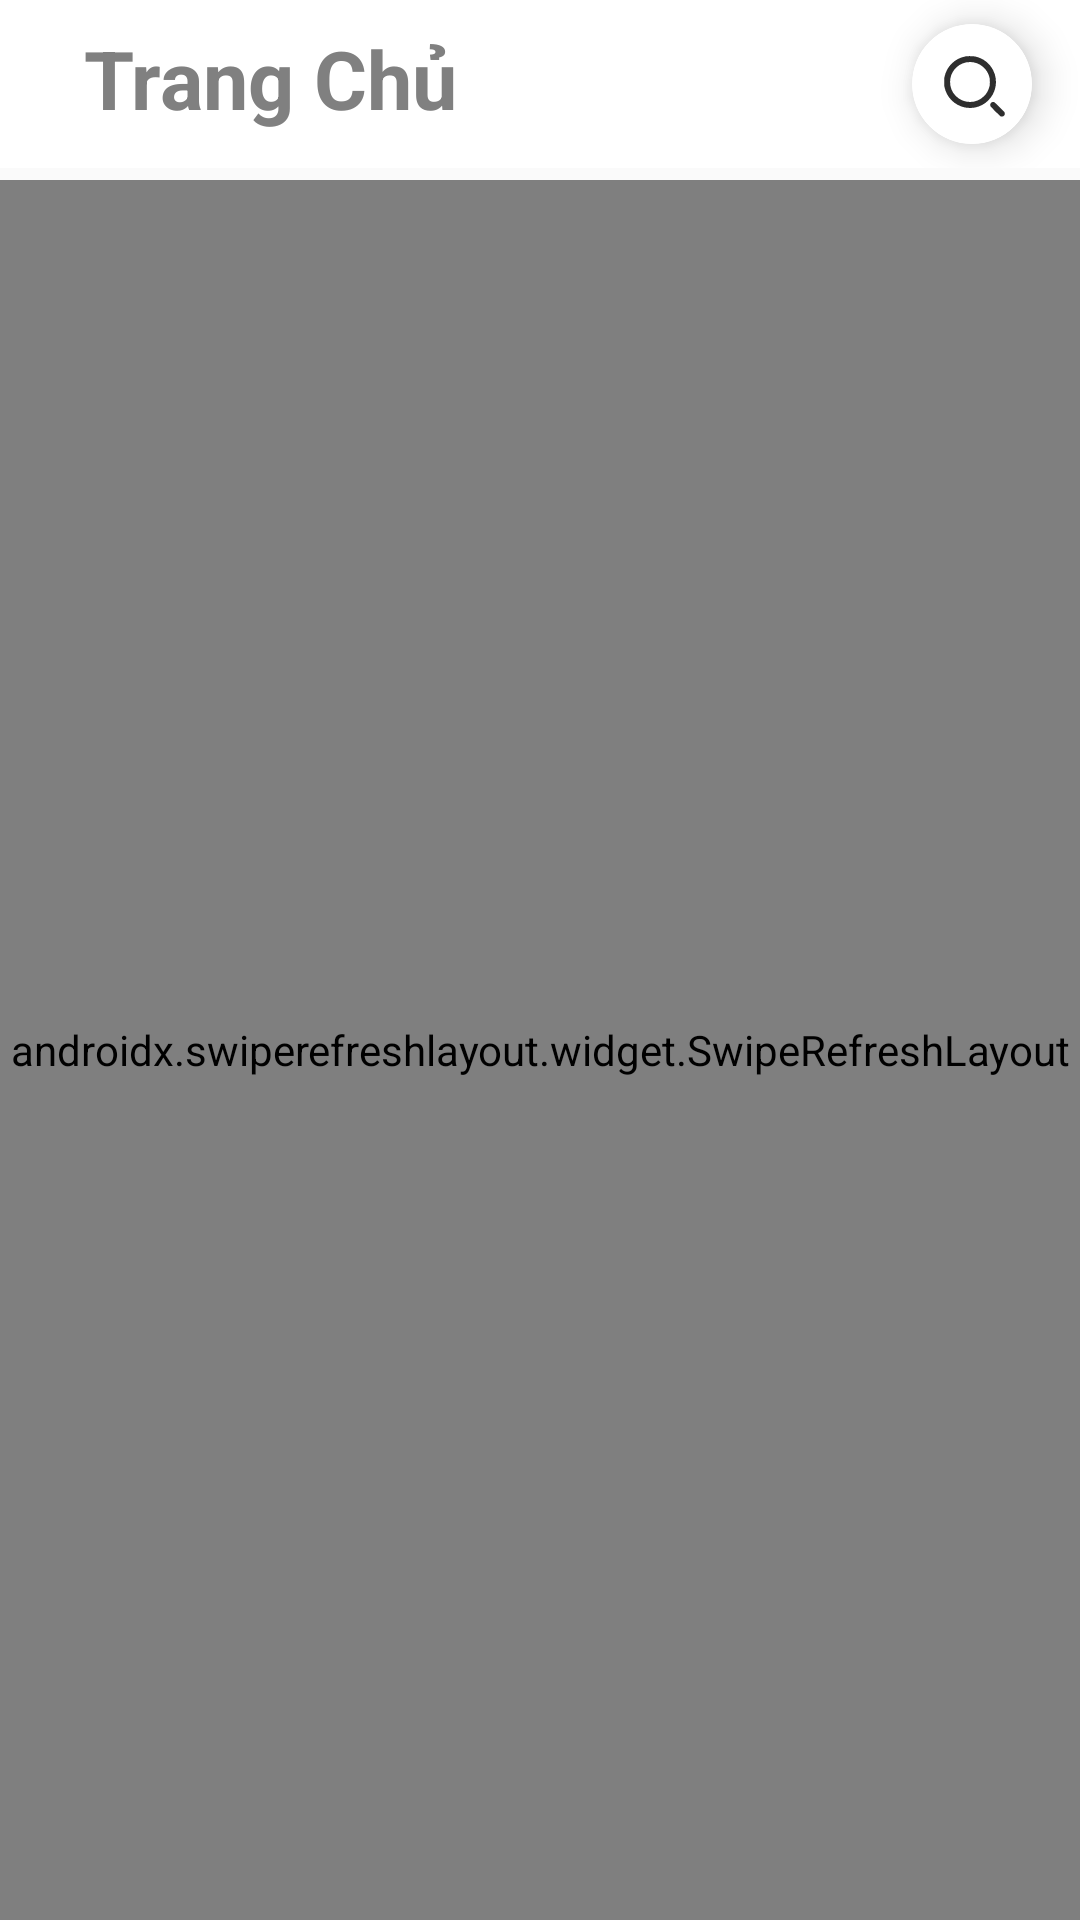

Where to tap for icons on this 1080*1920 app screen, as point (x, y):
search: point (988, 91)
